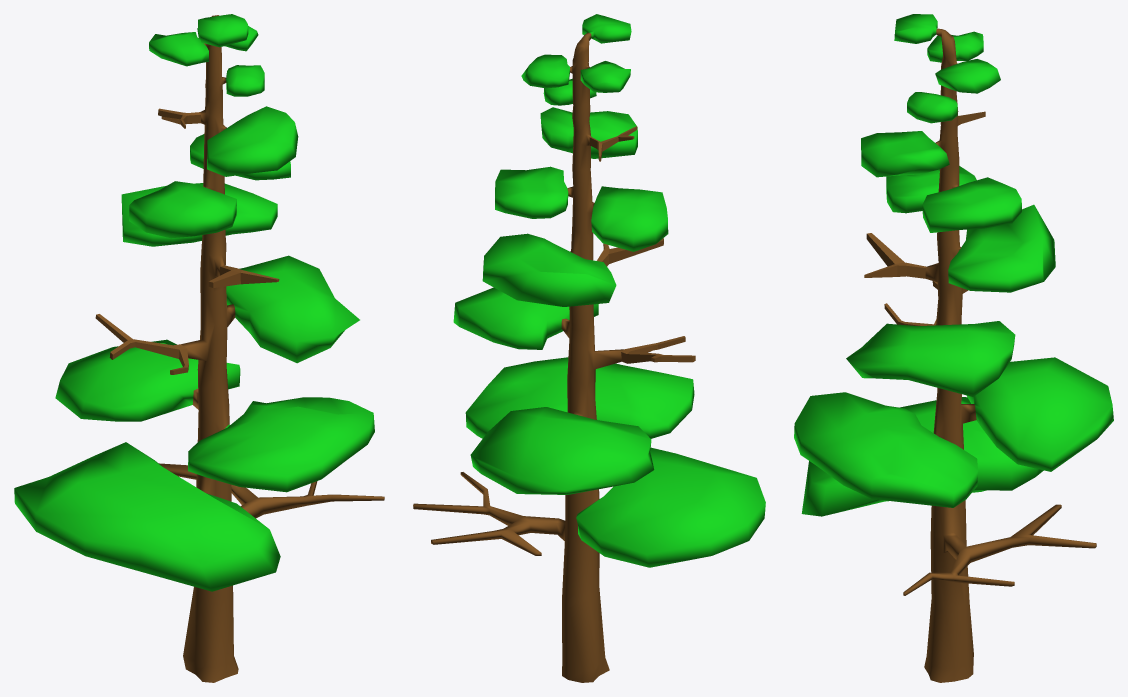
Rendered from baum_c003.FBX.
The picture shows the model from 3 angles, left to right: view 1: azimuth 30°, elevation 25°; view 2: azimuth 150°, elevation 25°; view 3: azimuth 270°, elevation 25°; orthographic projection. The views are drawn at different scales.
Visible parts, largest first — view 1: Baum_C003; view 2: Baum_C003; view 3: Baum_C003.
Boxes of the visible parts, bbox=[...] form: Baum_C003: bbox=[14, 14, 384, 682]; Baum_C003: bbox=[413, 14, 765, 682]; Baum_C003: bbox=[794, 14, 1113, 682].
Size of the model in its own units: 28.84 by 56.37 by 25.25.
